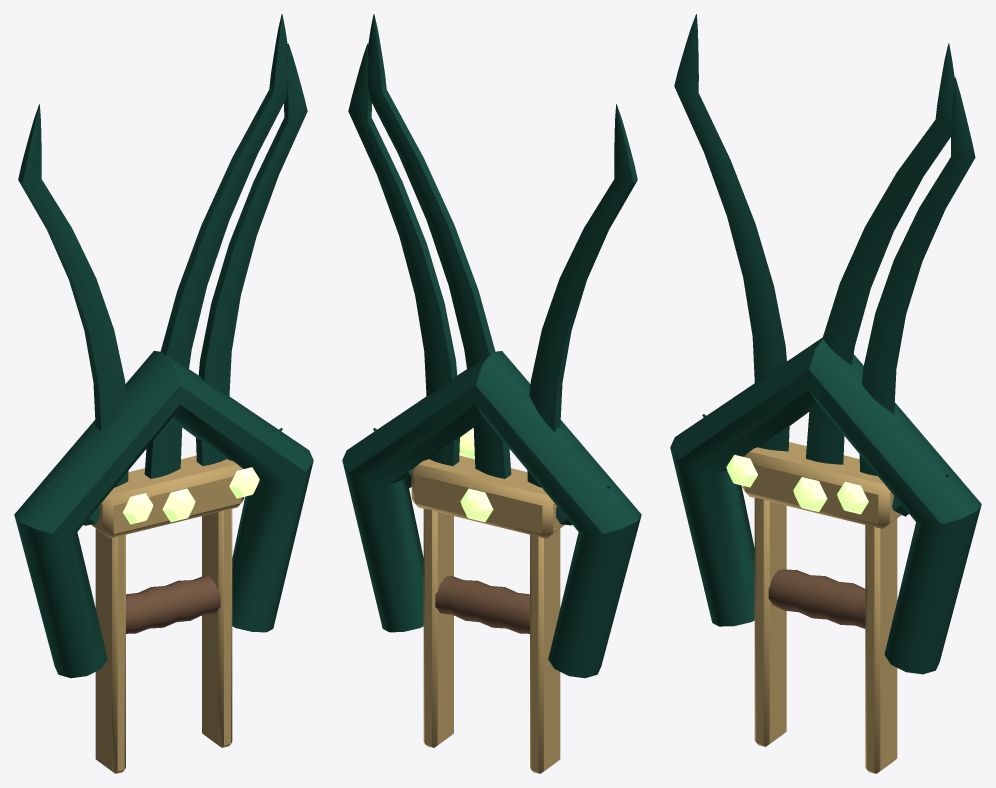
File: boss_serpent_veil_main_weapon.glb
3 renders of one model, left to right at view 1: azimuth 30°, elevation 25°; view 2: azimuth 150°, elevation 25°; view 3: azimuth 330°, elevation 25°, orthographic. The views are drawn at different scales.
Visible parts, largest first — view 1: boss_serpent_veil_main_weapon; view 2: boss_serpent_veil_main_weapon; view 3: boss_serpent_veil_main_weapon.
Boxes of the visible parts, x1,y1,x2,y2 form: boss_serpent_veil_main_weapon: (14,14,313,773); boss_serpent_veil_main_weapon: (342,14,641,773); boss_serpent_veil_main_weapon: (670,14,981,773).
Bounding box in the file's own units: 0.2459 × 0.575 × 0.079.
